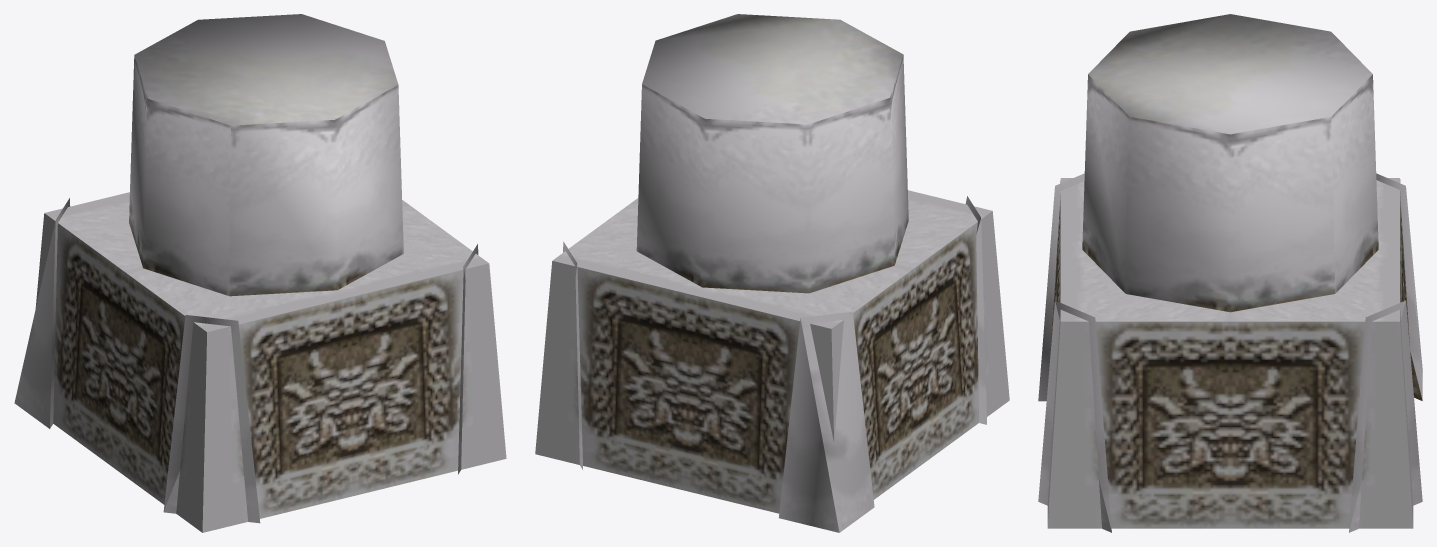
Rendered from general_obj_bigtower09_lod_01.glb.
The picture shows the model from 3 angles, left to right: view 1: azimuth 30°, elevation 25°; view 2: azimuth 150°, elevation 25°; view 3: azimuth 270°, elevation 25°; orthographic projection. The views are drawn at different scales.
Parts seen in each view (by area): view 1: Sphere01; view 2: Sphere01; view 3: Sphere01.
Part boxes in pixels (x1,y1,x2,y2): Sphere01: (14,14,506,532); Sphere01: (535,14,1009,532); Sphere01: (1038,14,1422,532).
Bounding box in the file's own units: 5.22 × 5.64 × 5.21.
1 material, 1 textured.
